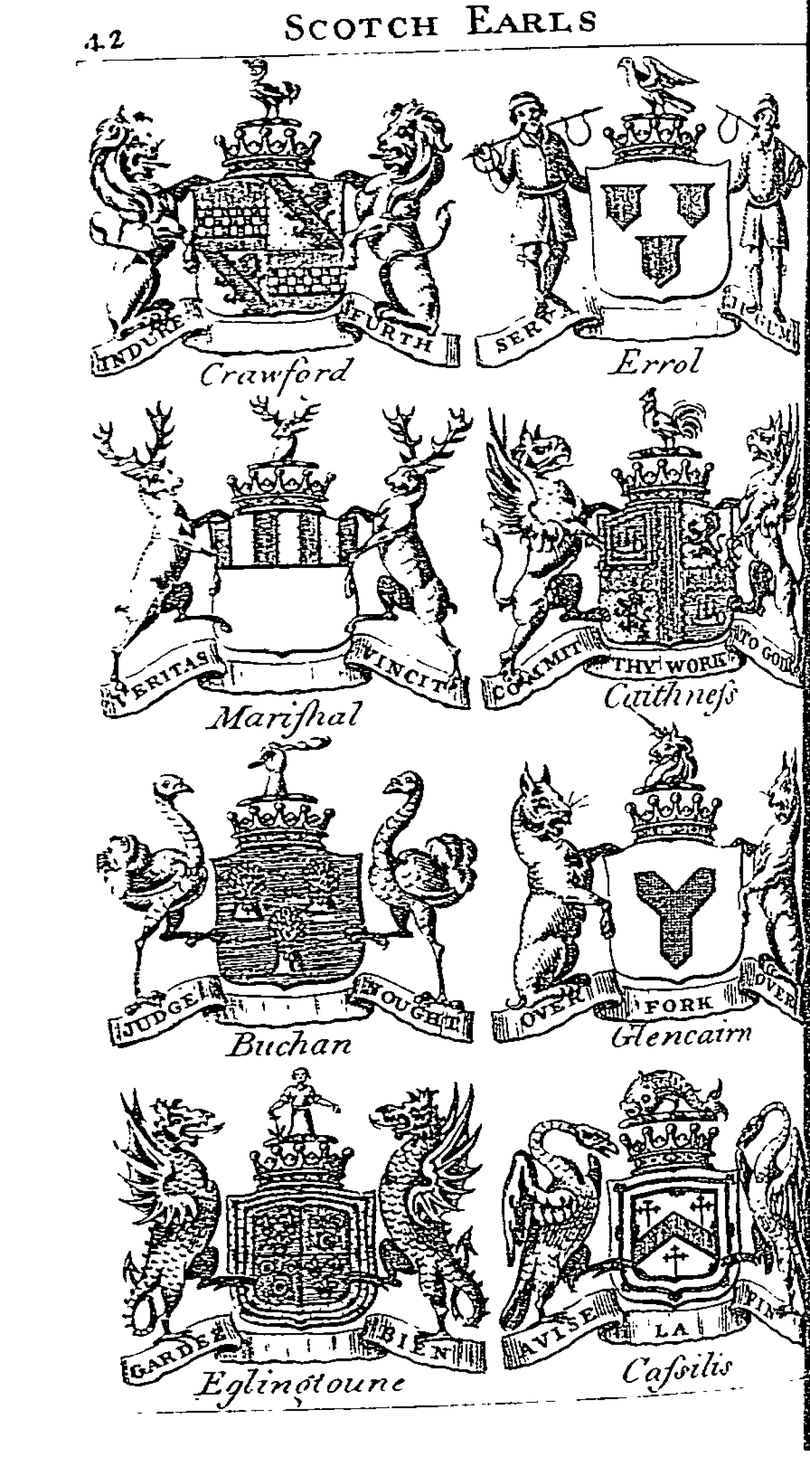coat_of_arms: (106, 1067, 500, 1404), (91, 394, 472, 739), (79, 63, 464, 393), (98, 734, 478, 1062), (478, 701, 810, 1053), (467, 59, 798, 384), (491, 1055, 810, 1390), (474, 389, 804, 708)
